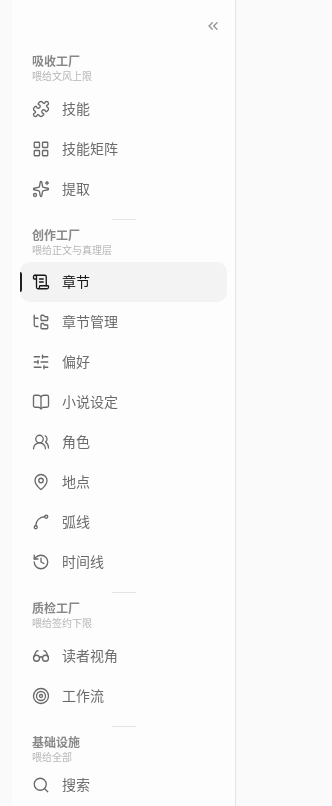
it: ActivityBar 四工厂分组（WBS T1.1） › 折叠态只显示图标不显示分组标题（保持现有折叠行为）
This screenshot has width=332, height=806.
Click the button titled "收起导航" at (213, 26), box [199,12,227,40]
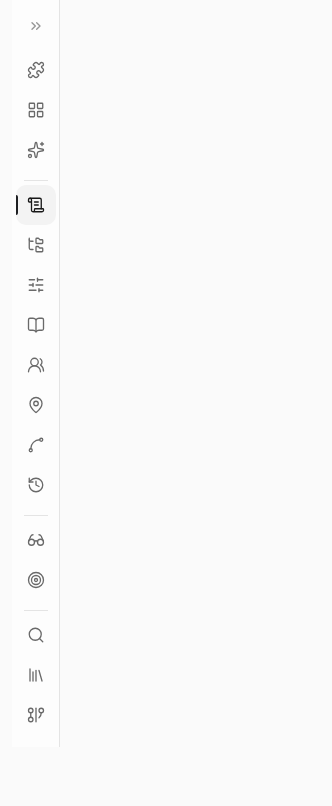
Now the button "吸收工厂" is gone
Now the button "创作工厂" is gone
Now the button "质检工厂" is gone
